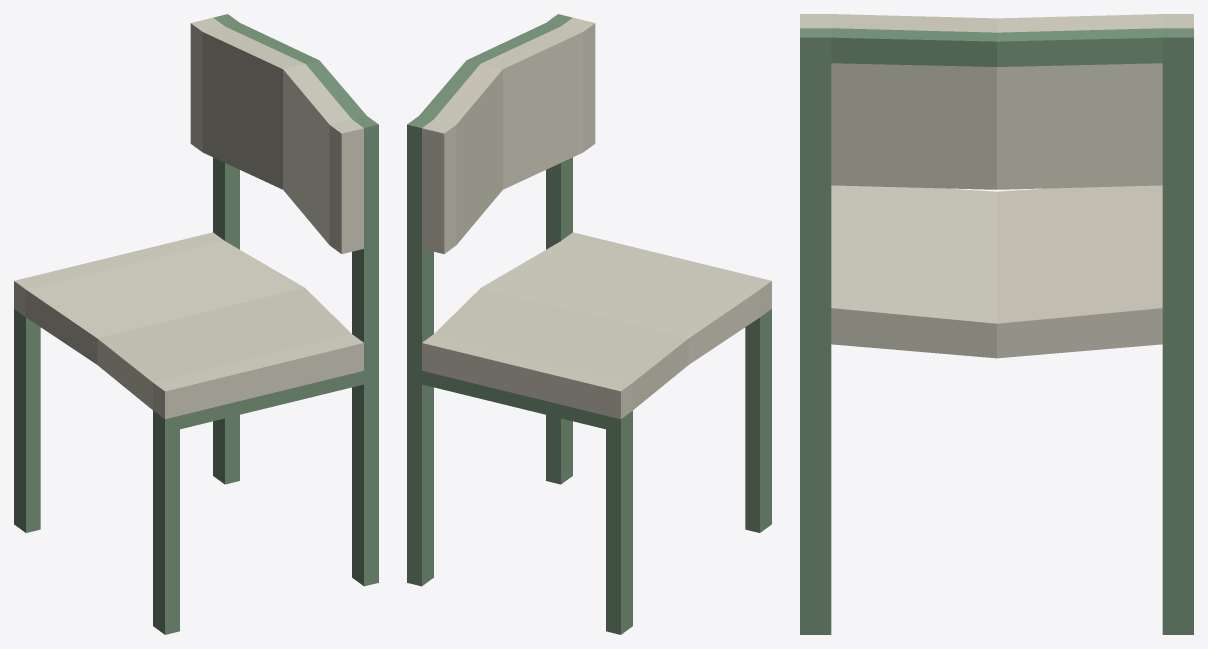
File: schoolchair.fbx
3 views of the same model, side by side, from view 1: azimuth 30°, elevation 25°; view 2: azimuth 150°, elevation 25°; view 3: azimuth 270°, elevation 25° (orthographic). The views are drawn at different scales.
Visible parts, largest first — view 1: School Chair; view 2: School Chair; view 3: School Chair.
Boxes of the visible parts, box(x1,y1,x2,y2) form: School Chair: box(14, 14, 378, 634); School Chair: box(407, 14, 771, 634); School Chair: box(800, 14, 1193, 634).
Bounding box in the file's own units: 92.88 × 179 × 106.
